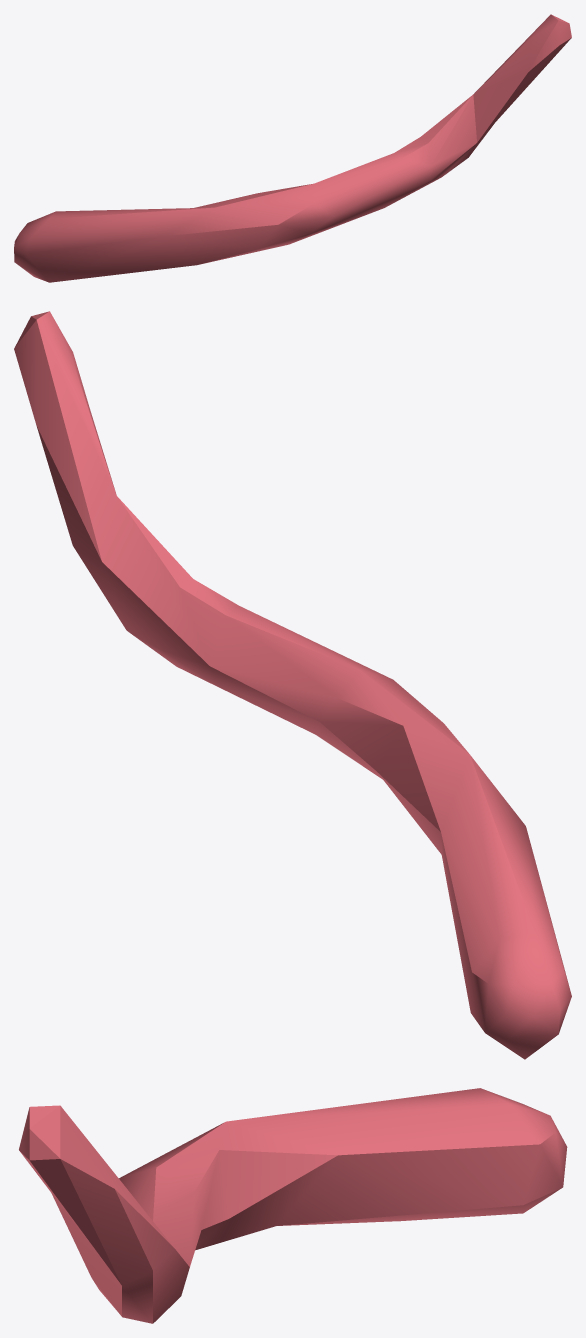
Rendered from fma3840_fj2699.glb.
The picture shows the model from 3 angles, top to bottom: view 1: azimuth 30°, elevation 25°; view 2: azimuth 150°, elevation 25°; view 3: azimuth 270°, elevation 25°; orthographic projection. The views are drawn at different scales.
Parts seen in each view (by area): view 1: FMA3840_FJ2699; view 2: FMA3840_FJ2699; view 3: FMA3840_FJ2699.
Boxes of the visible parts, x1,y1,x2,y2 form: FMA3840_FJ2699: (14,14,571,282); FMA3840_FJ2699: (14,311,571,1059); FMA3840_FJ2699: (19,1088,567,1323).
Size of the model in its own units: 0.00651 by 0.00357 by 0.00355.
